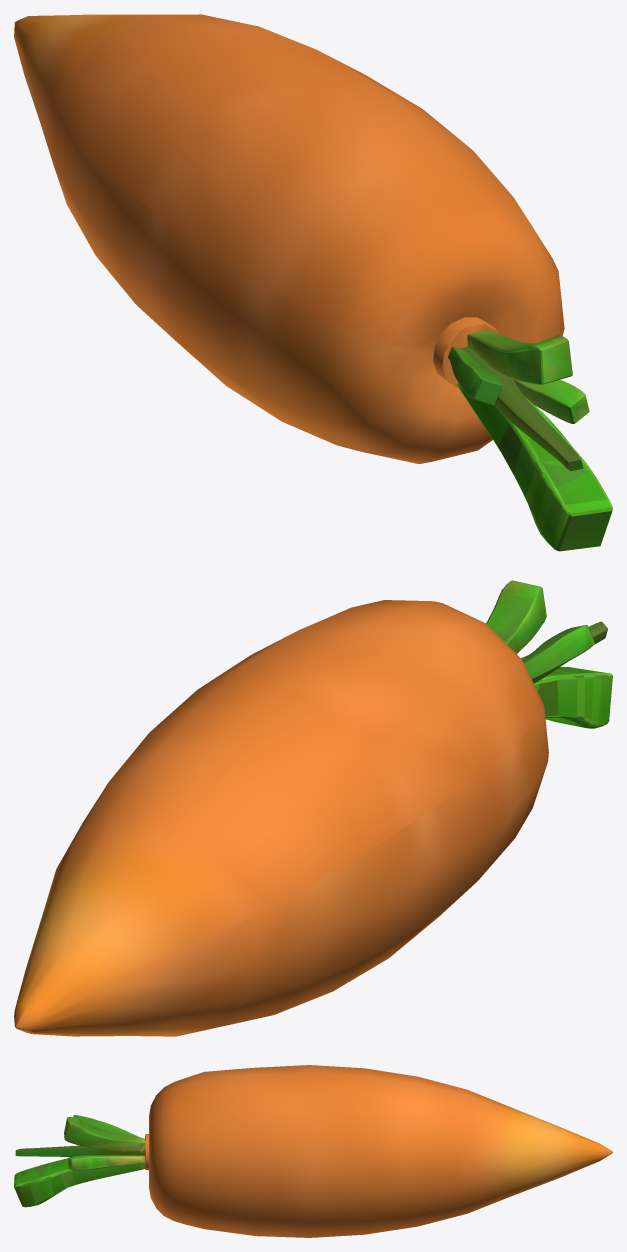
3 views of the same model, one above another, from view 1: azimuth 30°, elevation 25°; view 2: azimuth 150°, elevation 25°; view 3: azimuth 270°, elevation 25° (orthographic). The views are drawn at different scales.
Bounding box in the file's own units: 0.2899 × 0.2883 × 1.
1 material, 1 textured.
